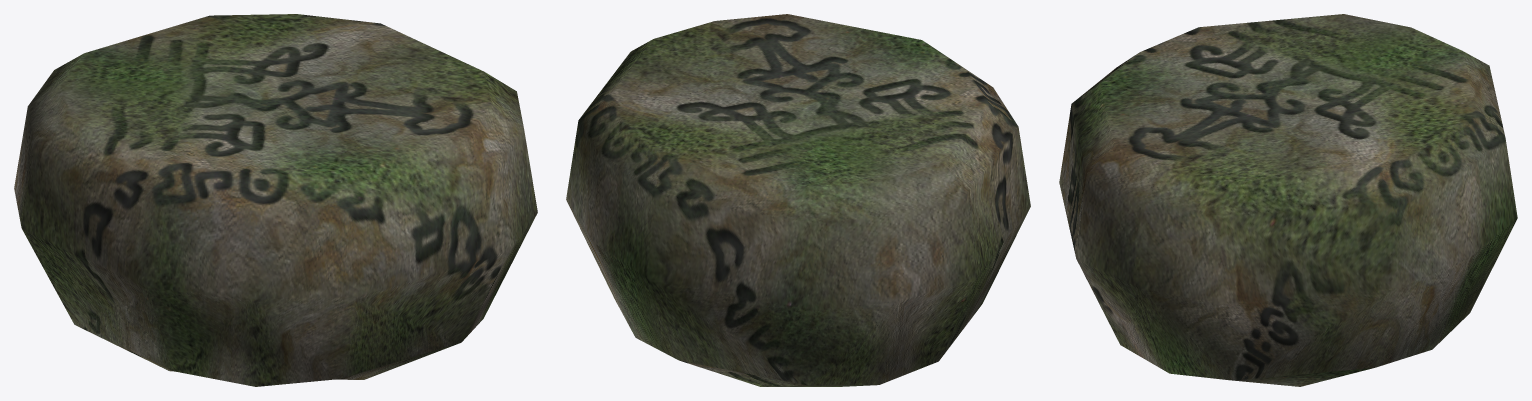
Rendered from RuneGlowStone14Shape.dae.
The picture shows the model from 3 angles, left to right: view 1: azimuth 30°, elevation 25°; view 2: azimuth 150°, elevation 25°; view 3: azimuth 270°, elevation 25°; orthographic projection. The views are drawn at different scales.
Parts seen in each view (by area): view 1: RuneGlowStone14; view 2: RuneGlowStone14; view 3: RuneGlowStone14.
Part boxes in pixels (left/top/right/bottom): RuneGlowStone14: left=14, top=14, right=537, bottom=386; RuneGlowStone14: left=566, top=14, right=1030, bottom=386; RuneGlowStone14: left=1059, top=14, right=1517, bottom=386.
Size of the model in its own units: 4.9 by 2.76 by 4.61.
